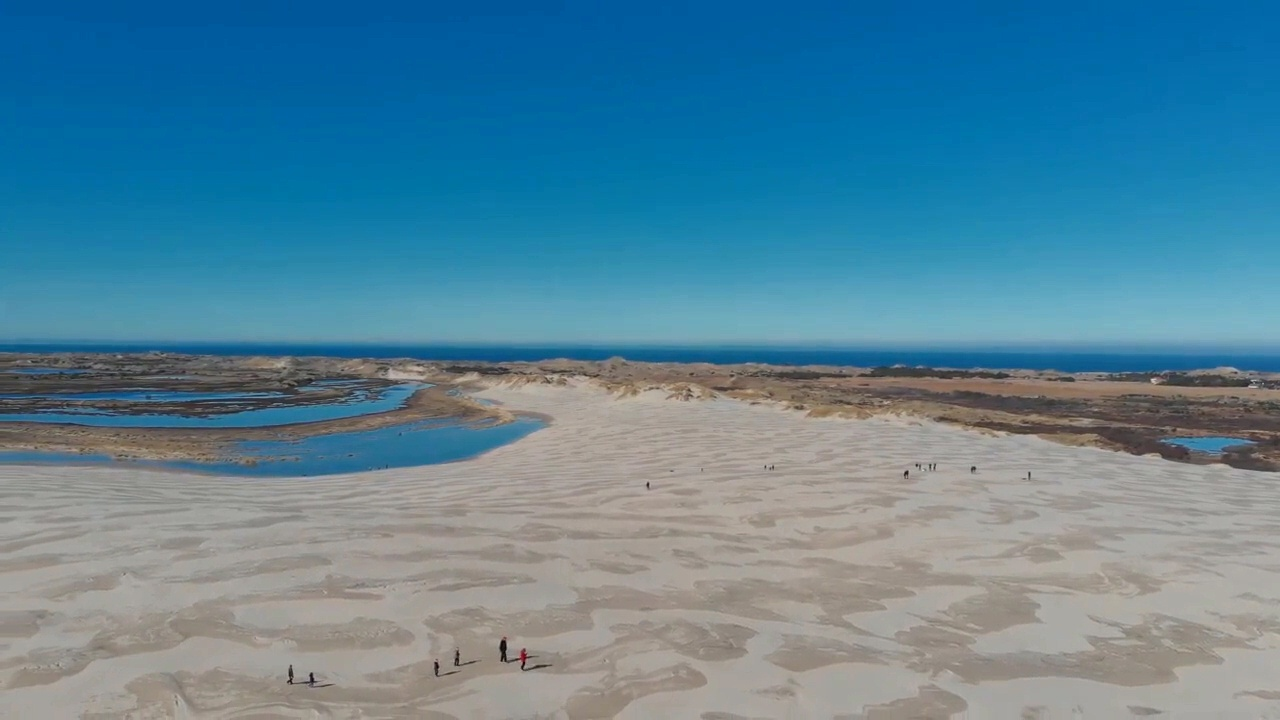insan: (497, 635, 513, 663), (516, 647, 532, 674), (449, 646, 464, 666), (307, 666, 318, 693), (285, 660, 297, 684), (430, 658, 443, 676)
